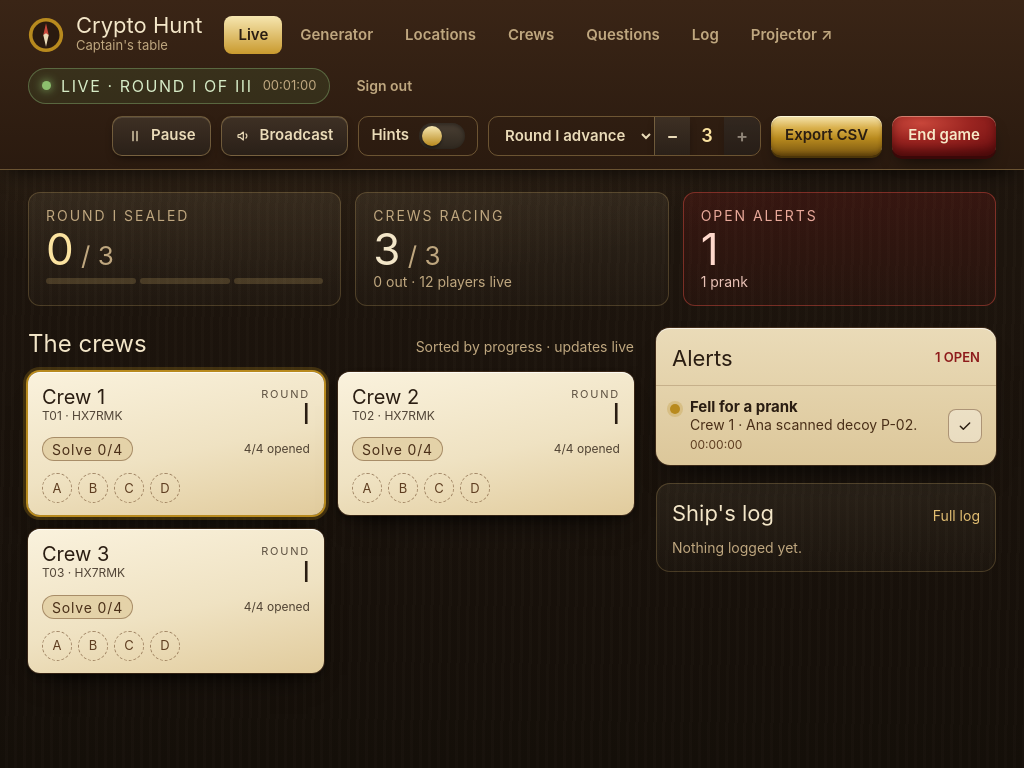
Scenario: live dashboard (T-406) › acknowledging an alert hides it at once and tells the server
Click the button named "Acknowledge: Fell for a prank" at (965, 426), box [948,408,982,442]
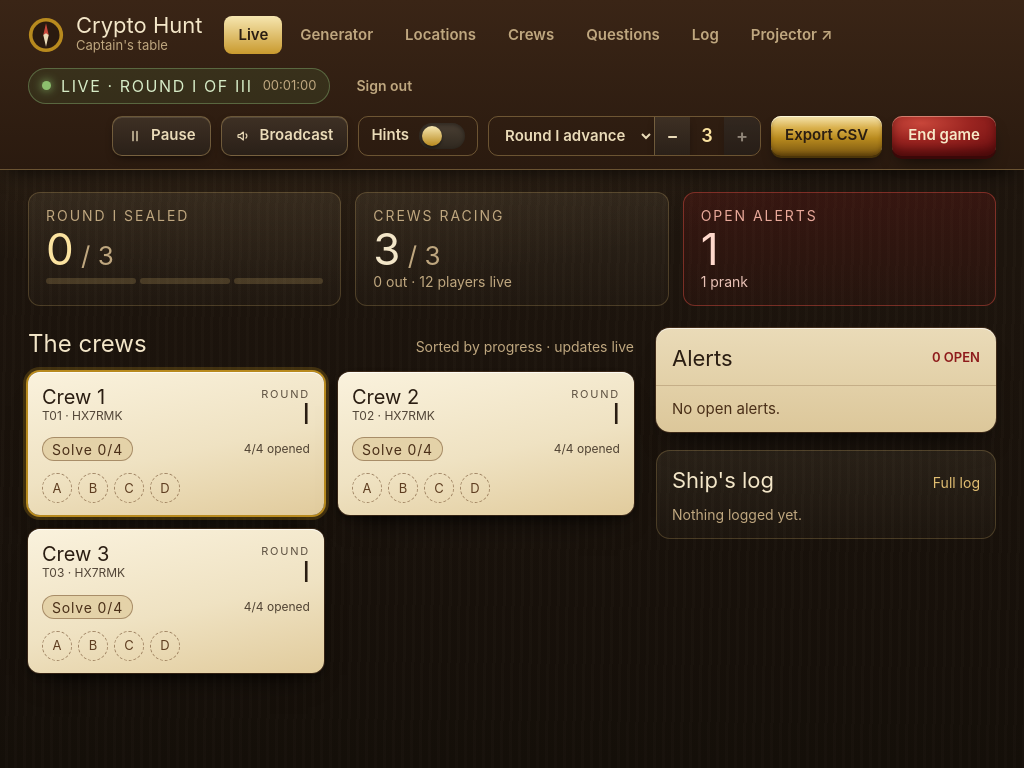
Result: the text "Fell for a prank" is gone
Result: the text "No open alerts." is shown at [656,385,996,432]
